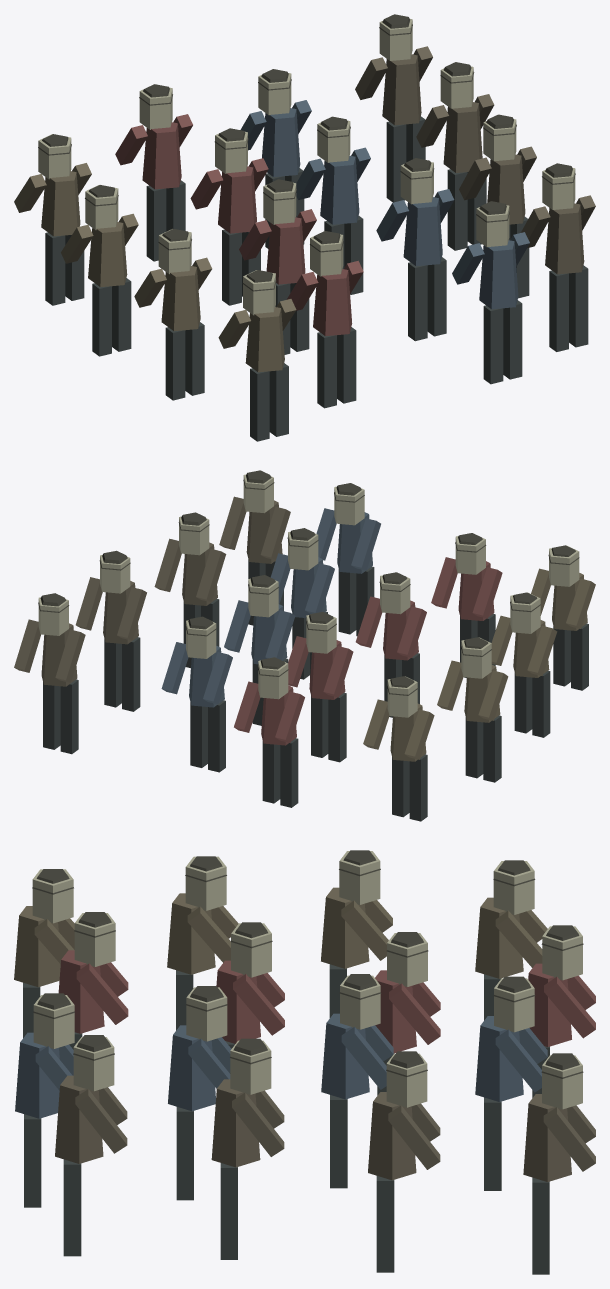
The model's file is enemy-squad.glb.
The picture shows the model from 3 angles, top to bottom: view 1: azimuth 30°, elevation 25°; view 2: azimuth 150°, elevation 25°; view 3: azimuth 270°, elevation 25°; orthographic projection. The views are drawn at different scales.
Visible parts, largest first — view 1: enemy-squad; view 2: enemy-squad; view 3: enemy-squad.
Part boxes in pixels (x1,y1,x2,y2): enemy-squad: (14,14,595,441); enemy-squad: (14,470,595,821); enemy-squad: (14,850,595,1274).
Size of the model in its own units: 4.52 by 1.69 by 4.33.
